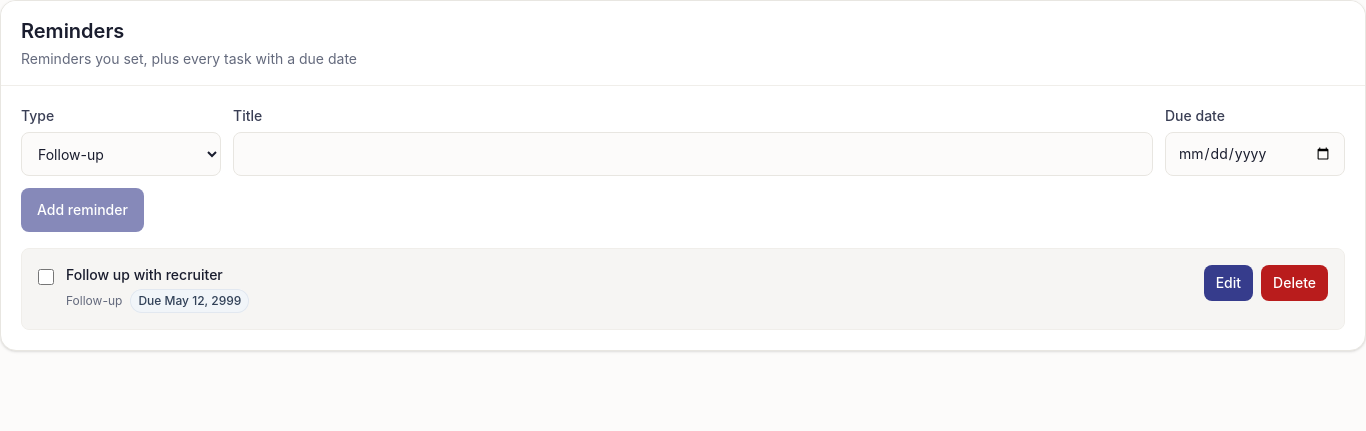
Scenario: JobDetailRemindersPanel › deletes a stored reminder
The image size is (1366, 431).
Click the button with aria-label "Delete reminder Follow up with recruiter" at (1295, 283), box [1261,265,1328,301]
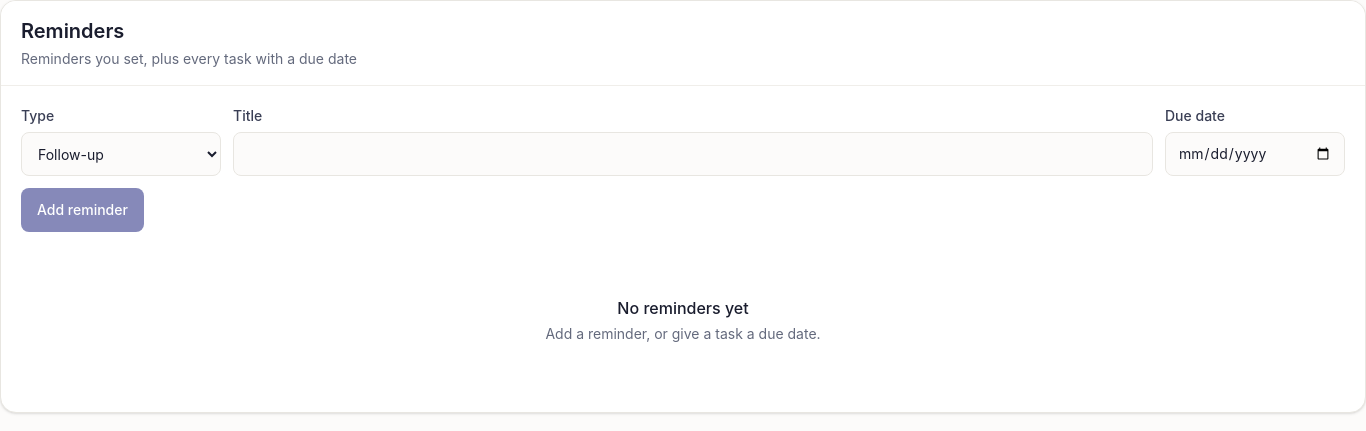
Expected: the text "No reminders yet" is shown, [617,296,749,320]
